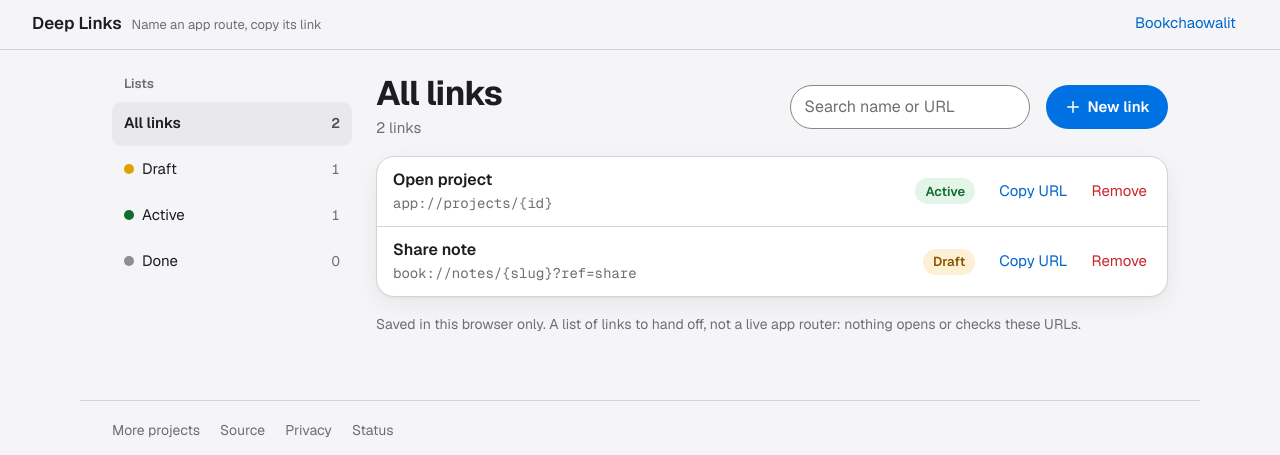
deep links › copies a URL and reports a failed copy
Later steps or results of the test are not shown.
Click the button "Copy URL" in the row of "Open project".
click(1033, 191)  # box [987,169,1080,213]
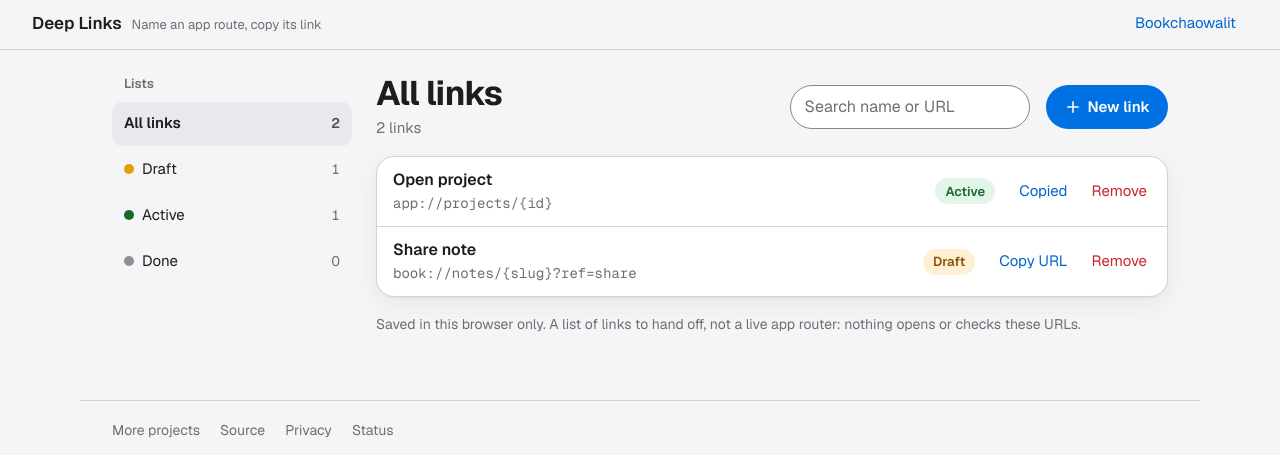
Now the button "Copied" is shown, box [1007,169,1080,213]
